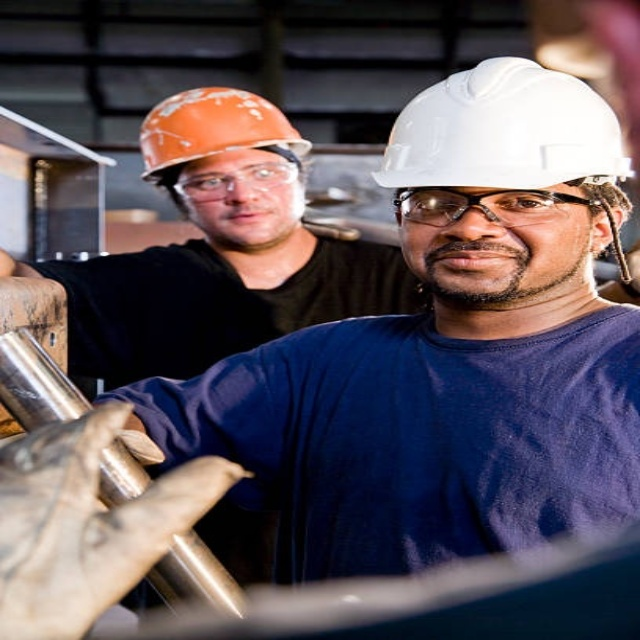Gafas: (392, 188, 602, 228), (176, 159, 296, 195)
Guantes: (6, 393, 260, 631)
Sin_mascara: (433, 243, 521, 285), (212, 206, 282, 239)
